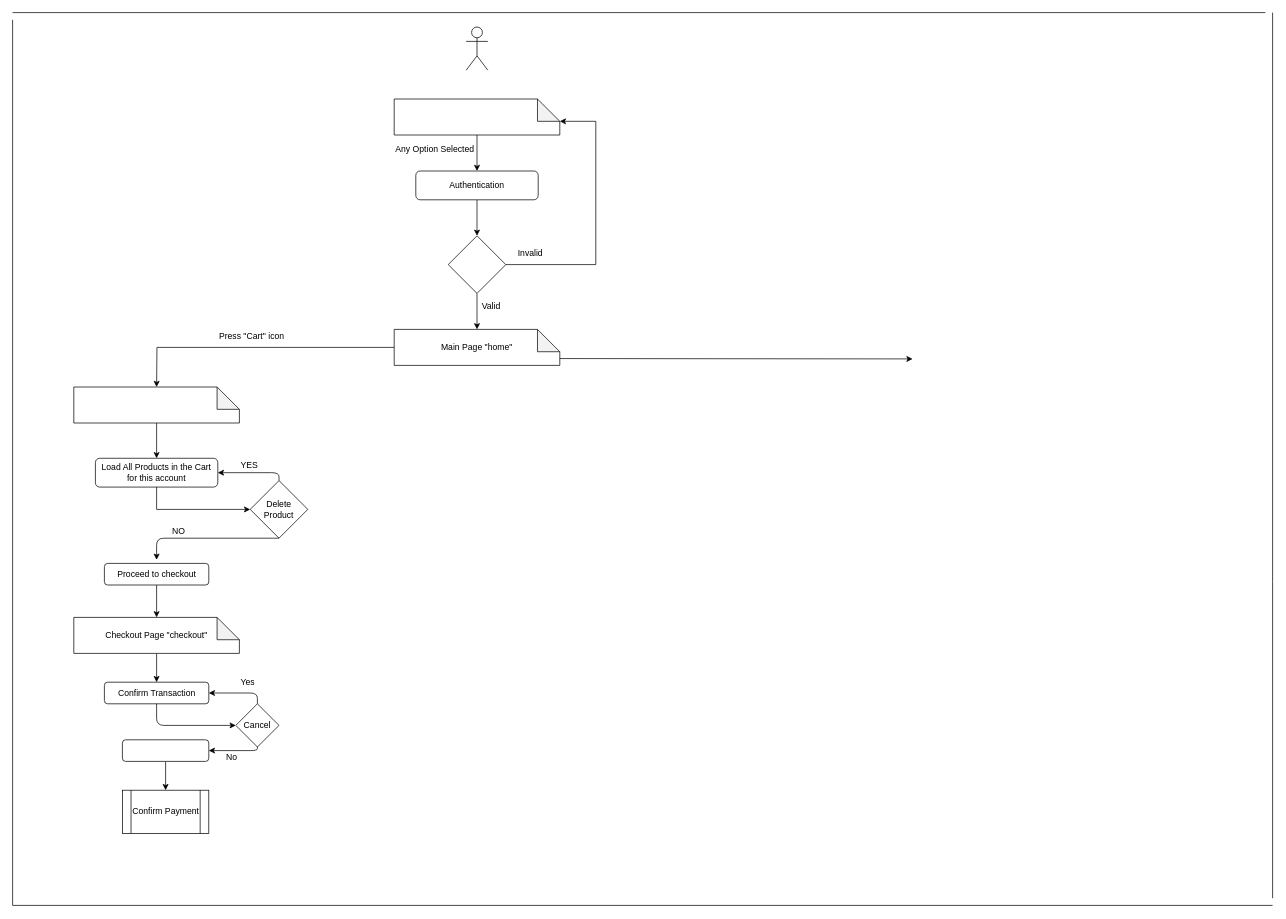
The diagram is 1286 pixels wide and 919 high, and some of its shapes have lost their labels. Each missing label, with the centre of its shape:
Cart Page "cart": the point at 156,404
Check: the point at 476,264
Login Page "index": the point at 476,116
Make a Payment: the point at 165,750
User: the point at 476,48
